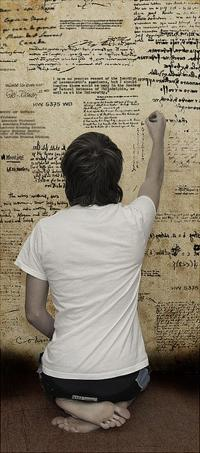person: (16, 111, 166, 434)
